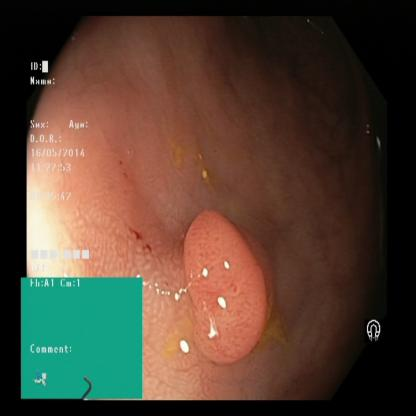Labels: (22, 277, 141, 401), (32, 56, 99, 274), (359, 298, 390, 349)
Polyps: (183, 204, 273, 369)
